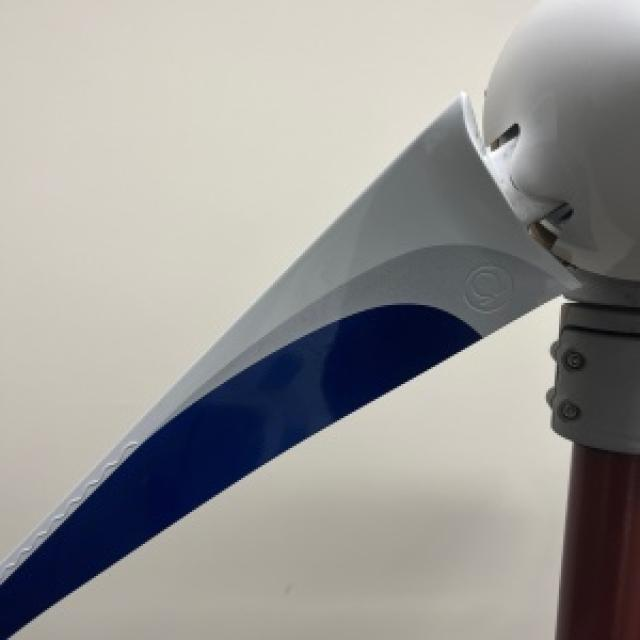healthy: (11, 299, 567, 638)
